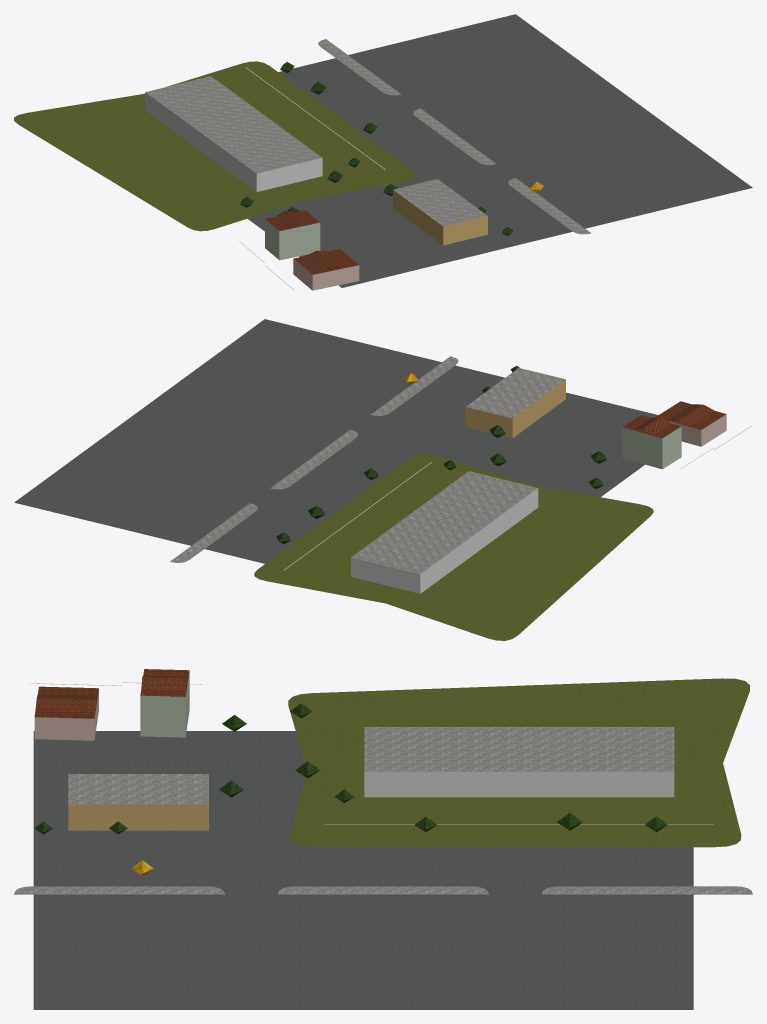
File: cidade_S02_04_lod.gltf
The picture shows the model from 3 angles, top to bottom: view 1: azimuth 30°, elevation 25°; view 2: azimuth 150°, elevation 25°; view 3: azimuth 270°, elevation 25°; orthographic projection. The views are drawn at different scales.
Visible parts, largest first — view 1: S02_04_Chao_LOD2, S02_04_Edificios_LOD1, S02_04_Silhueta_LOD2, S02_04_Vegetacao_LOD2; view 2: S02_04_Chao_LOD2, S02_04_Edificios_LOD1, S02_04_Silhueta_LOD2, S02_04_Vegetacao_LOD2; view 3: S02_04_Chao_LOD2, S02_04_Edificios_LOD1, S02_04_Silhueta_LOD2, S02_04_Vegetacao_LOD2.
Boxes of the visible parts, box(x1,y1,x2,y2) form: S02_04_Chao_LOD2: box(14, 14, 752, 287); S02_04_Edificios_LOD1: box(145, 67, 487, 290); S02_04_Silhueta_LOD2: box(265, 210, 359, 289); S02_04_Vegetacao_LOD2: box(240, 62, 543, 235); S02_04_Chao_LOD2: box(14, 319, 658, 640); S02_04_Edificios_LOD1: box(284, 368, 752, 593); S02_04_Silhueta_LOD2: box(622, 401, 726, 468); S02_04_Vegetacao_LOD2: box(276, 365, 606, 544); S02_04_Chao_LOD2: box(14, 678, 752, 1009); S02_04_Edificios_LOD1: box(29, 675, 713, 830); S02_04_Silhueta_LOD2: box(34, 669, 189, 740); S02_04_Vegetacao_LOD2: box(34, 703, 667, 875).
Size of the model in its own units: 119 by 8.68 by 112.
11 materials, 11 textured.
